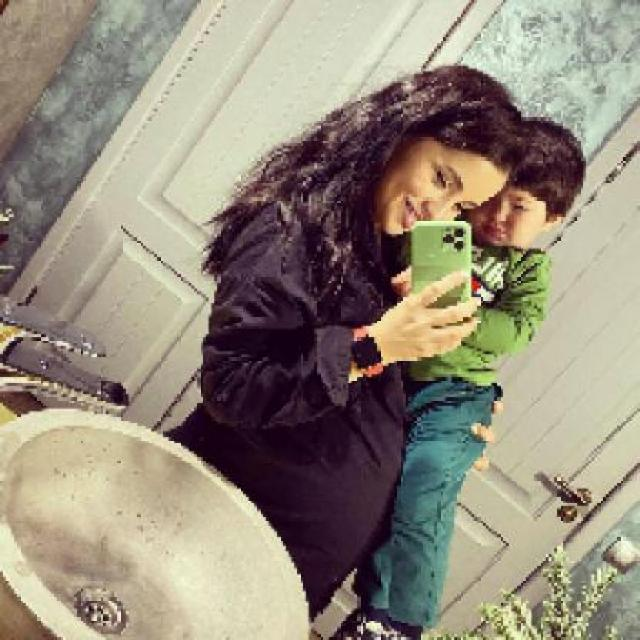child: (332, 117, 588, 637)
